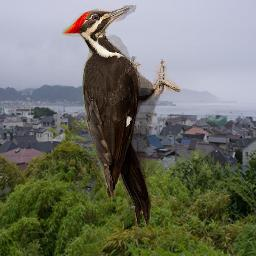Woodpecker: (62, 5, 181, 229)
